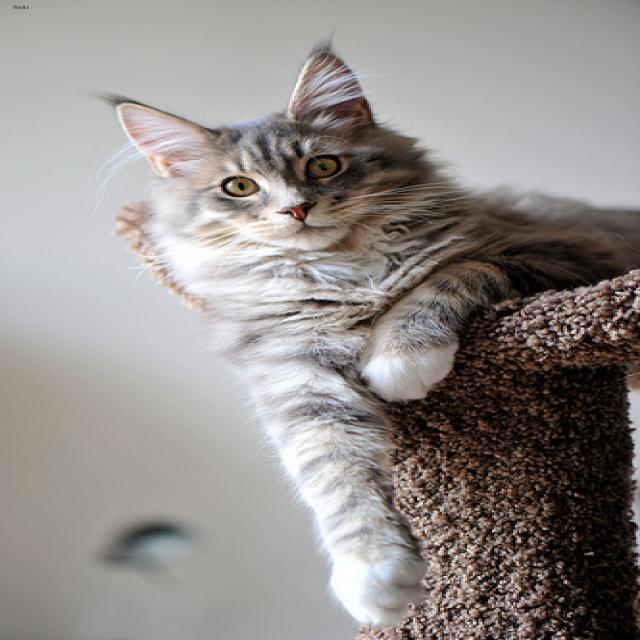Maine_Coon: (114, 47, 383, 247)
